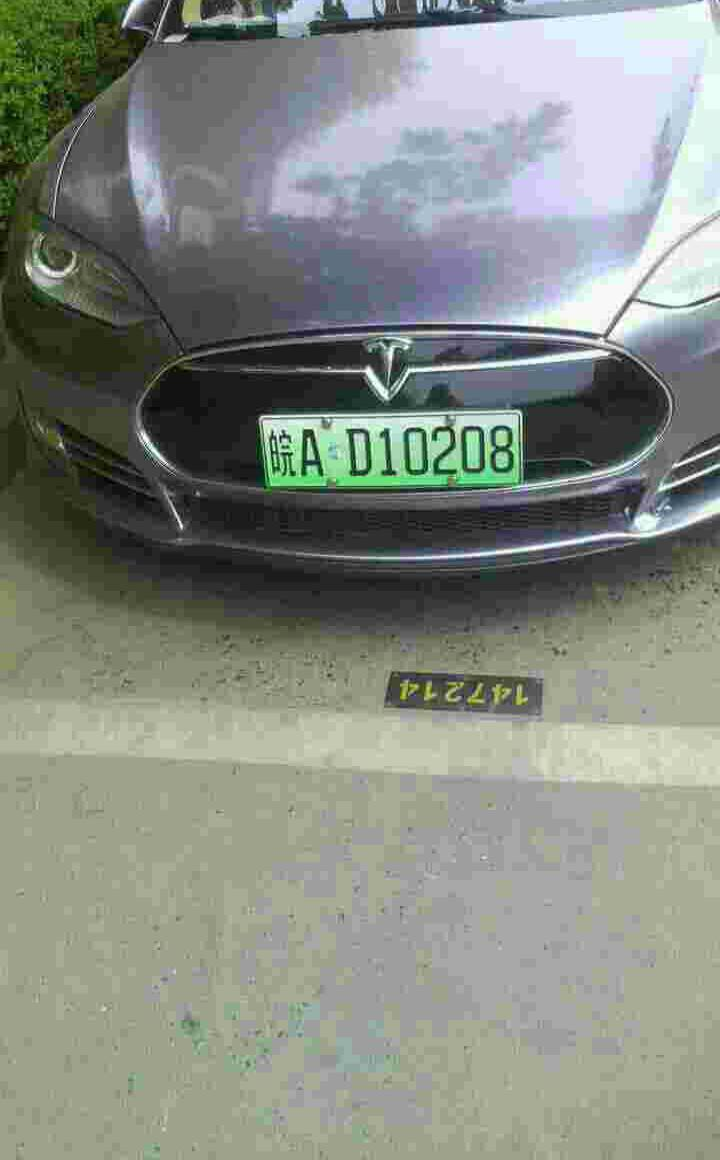car_green: (254, 405, 533, 490)
